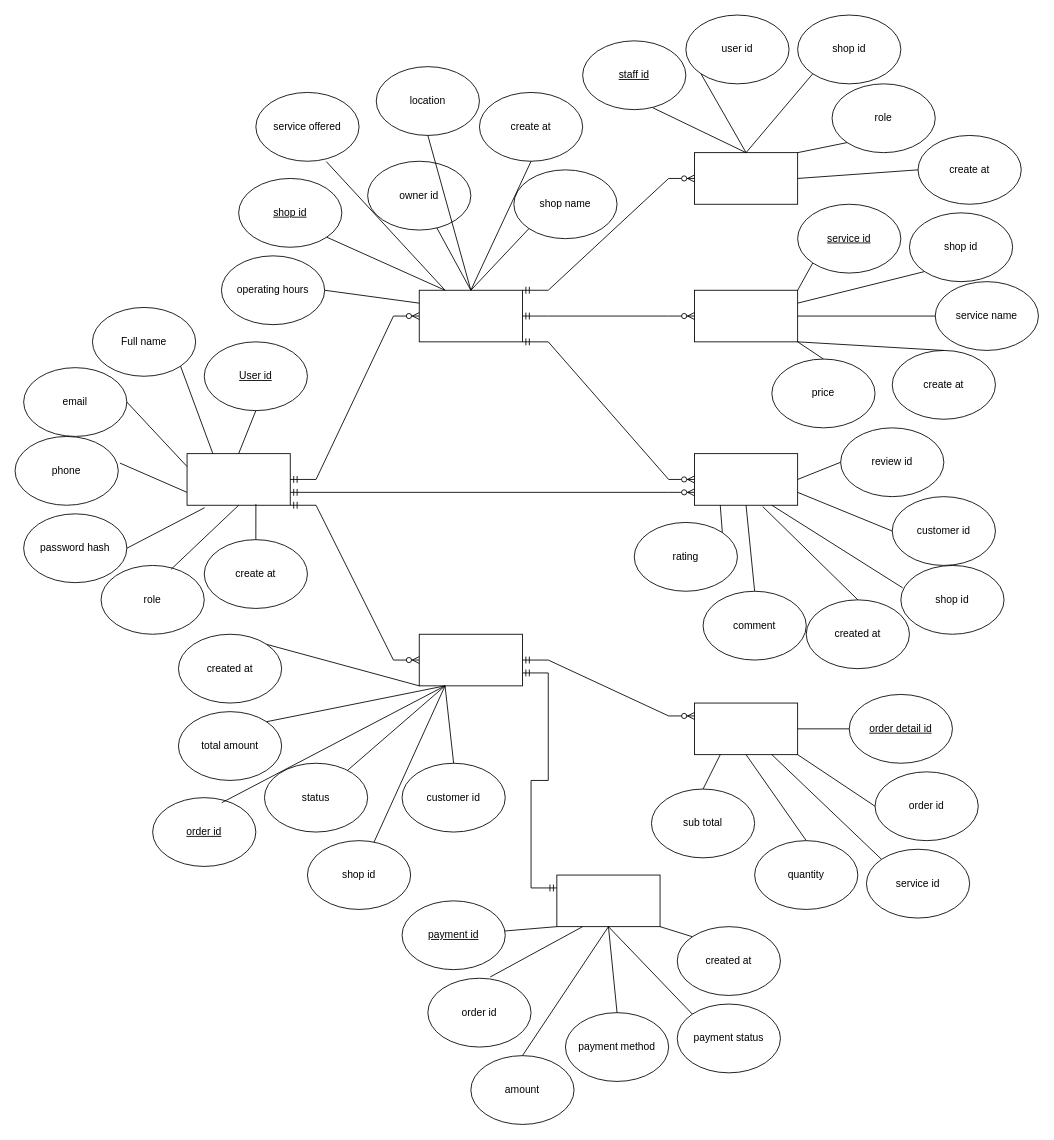
Some shapes in this 1054 by 1140 pixel diagram are drawn without their labels. Each missing label, with the box of its shape:
ORDER DETAILS: (694, 702, 798, 755)
ORDERS: (418, 633, 522, 686)
PAYMENTS: (556, 874, 660, 927)
REVIEW: (694, 453, 798, 505)
SERVICE: (694, 289, 798, 342)
SHOP: (418, 289, 522, 342)
STAFF: (694, 152, 798, 204)
USER: (186, 453, 290, 505)
